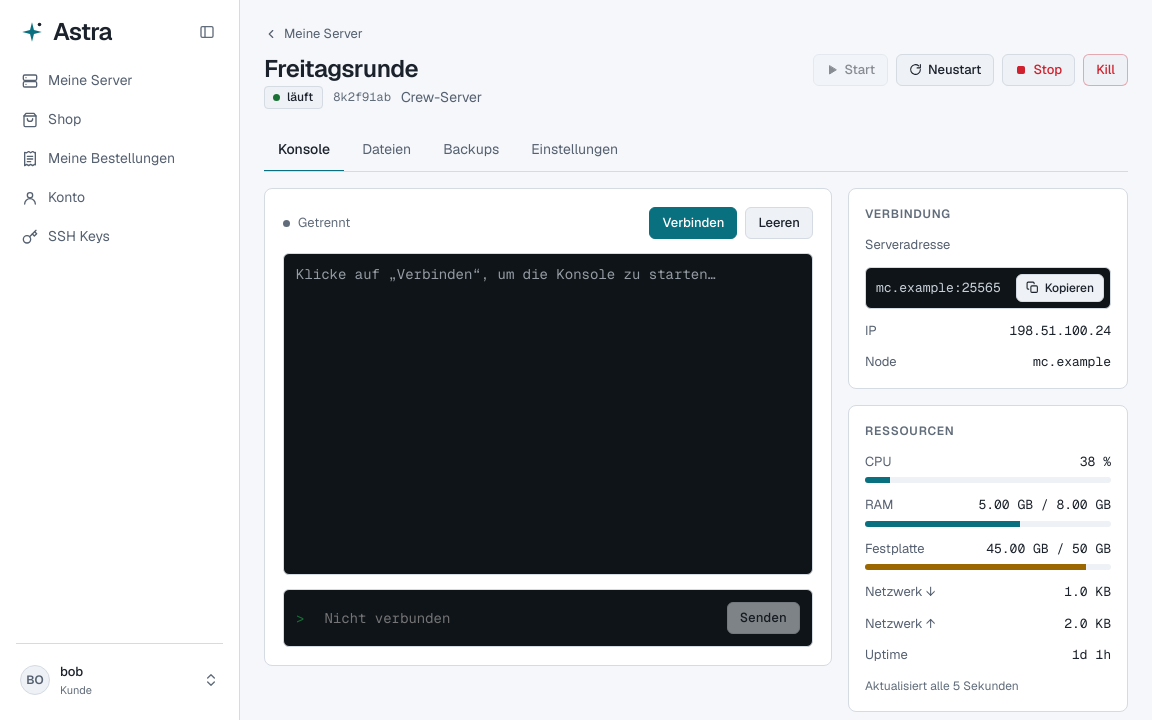
Test: InstanceDetailPage › aktiviert die Power-Buttons passend zum Zustand und sendet Stop
The image size is (1152, 720).
Expected: the heading "Freitagsrunde" is shown, x1=264 y1=52 x2=418 y2=84
Expected: the text "38 %" is shown, x1=1080 y1=452 x2=1111 y2=471
Click the button "Stop" at (1039, 70), box x1=1002 y1=54 x2=1075 y2=86
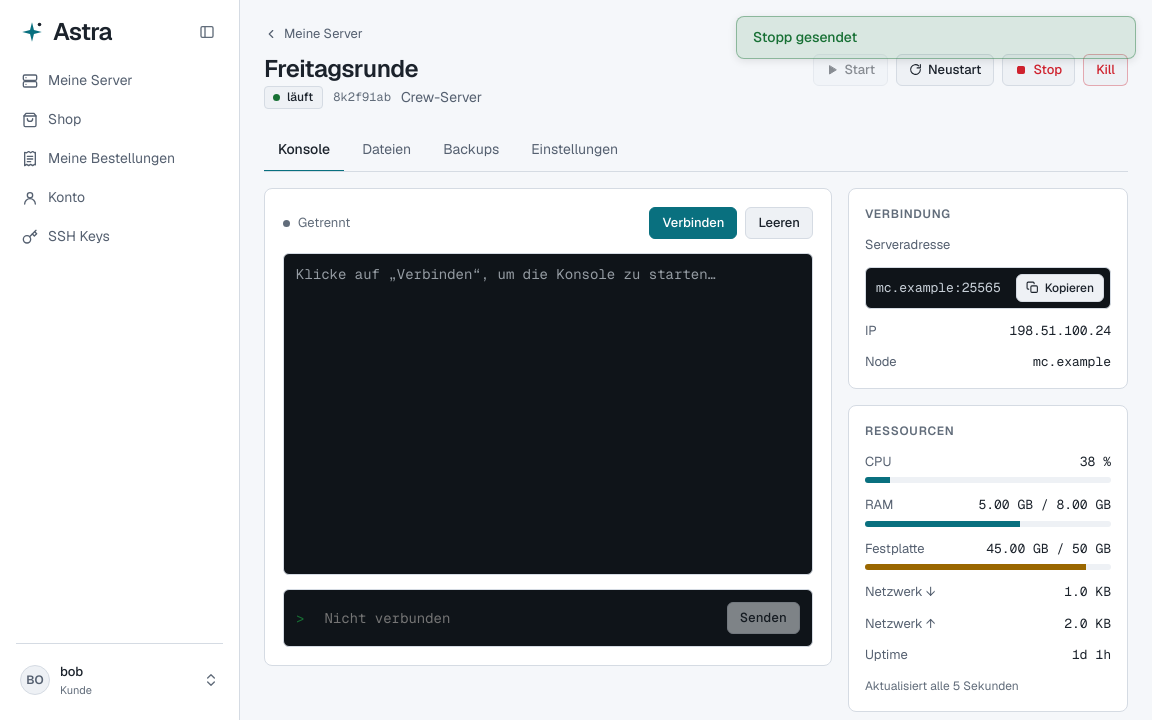
Expected: the text "Stopp gesendet" is shown, x1=736 y1=16 x2=1136 y2=59
